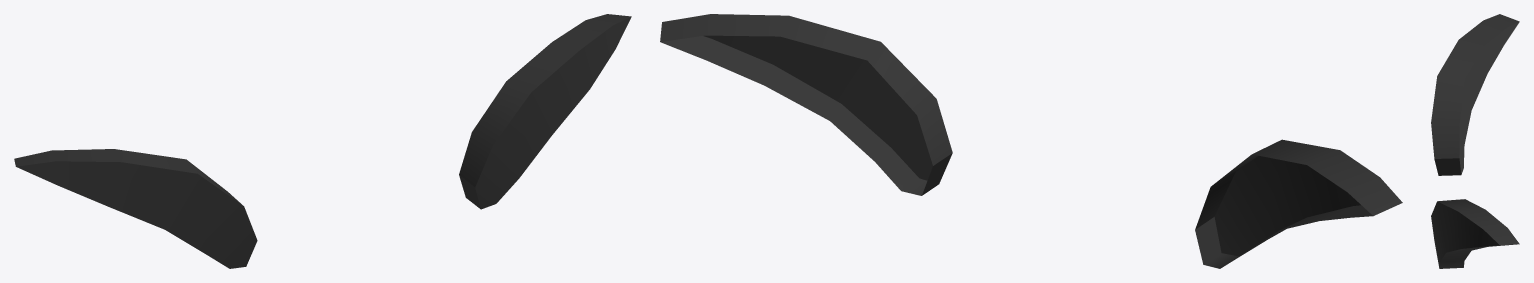
File: Brow_Black_2.fbx
3 renders of one model, left to right at view 1: azimuth 30°, elevation 25°; view 2: azimuth 150°, elevation 25°; view 3: azimuth 270°, elevation 25°, orthographic. The views are drawn at different scales.
Visible parts, largest first — view 1: Brow_Black_2; view 2: Brow_Black_2; view 3: Brow_Black_2.
Part boxes in pixels (<box>): Brow_Black_2: <box>14,14,631,268</box>; Brow_Black_2: <box>660,14,1402,268</box>; Brow_Black_2: <box>1431,14,1519,268</box>.
Bounding box in the file's own units: 27.94 × 5.35 × 4.54.
